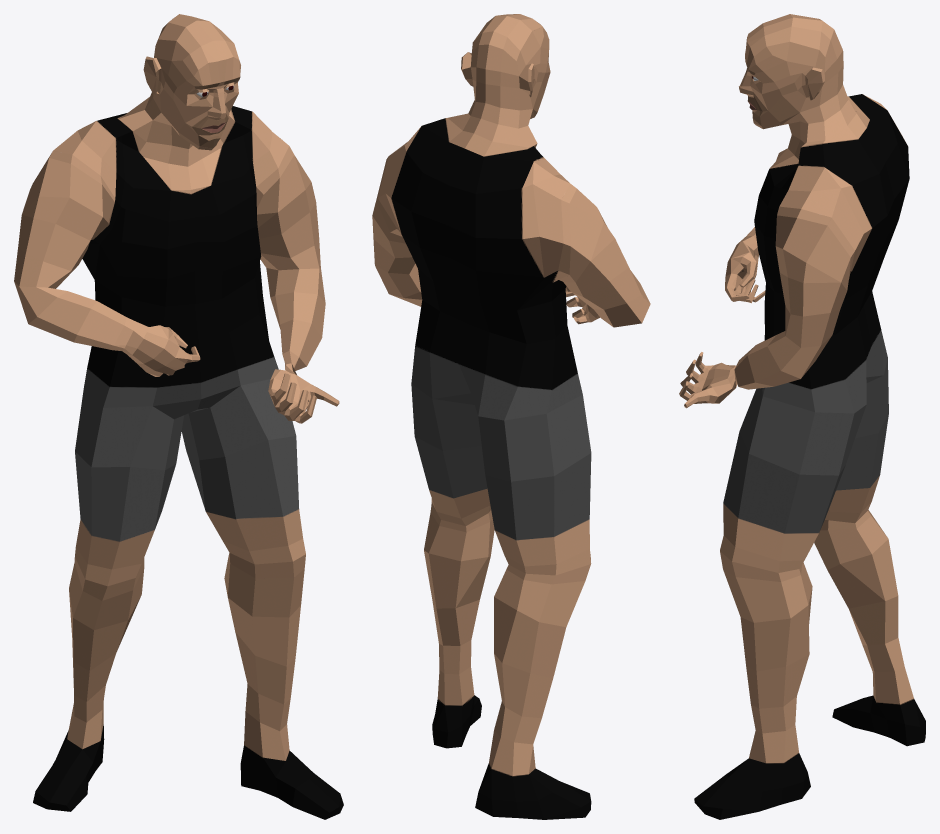
File: PlayerIdle(190).obj
3 views of the same model, side by side, from view 1: azimuth 30°, elevation 25°; view 2: azimuth 150°, elevation 25°; view 3: azimuth 270°, elevation 25° (orthographic). The views are drawn at different scales.
Parts seen in each view (by area): view 1: Plane002; view 2: Plane002; view 3: Plane002.
Boxes of the visible parts, x1,y1,x2,y2 form: Plane002: (14, 14, 343, 819); Plane002: (372, 14, 650, 819); Plane002: (679, 14, 925, 819).
Bounding box in the file's own units: 692 × 1801 × 536.
